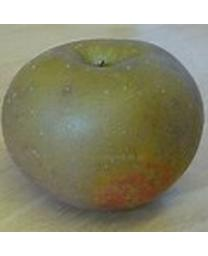apple: (2, 39, 204, 212)
